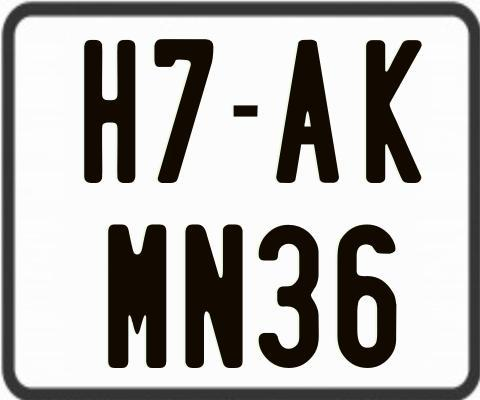3: (259, 223, 323, 372)
6: (335, 223, 398, 370)
7: (152, 39, 216, 189)
A: (275, 40, 341, 186)
H: (83, 38, 136, 181)
K: (363, 38, 420, 182)
M: (107, 221, 170, 370)
N: (184, 221, 247, 367)
